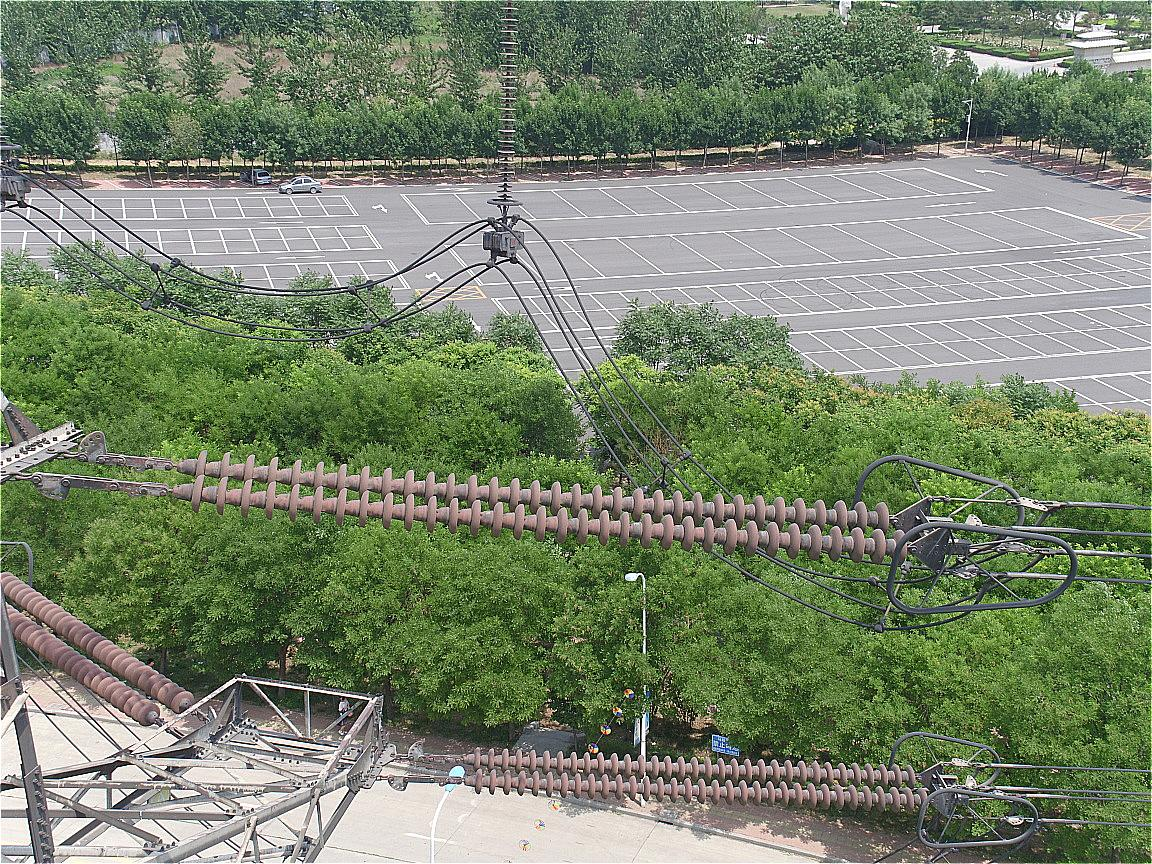insultor1: (188, 453, 892, 563), (472, 748, 929, 813), (5, 570, 192, 725)
